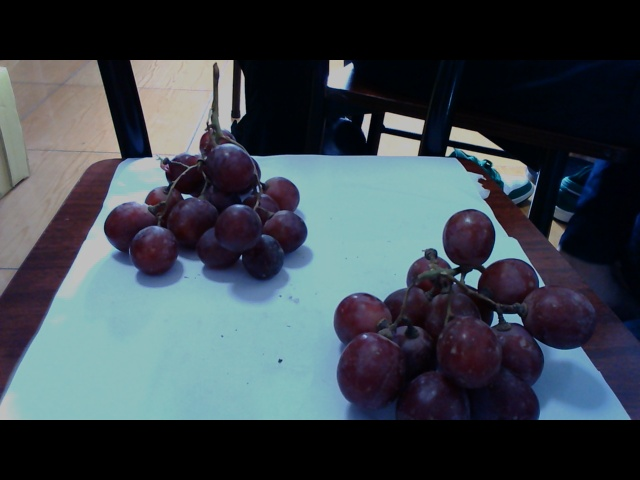grape: (325, 209, 606, 418), (106, 138, 322, 287)
